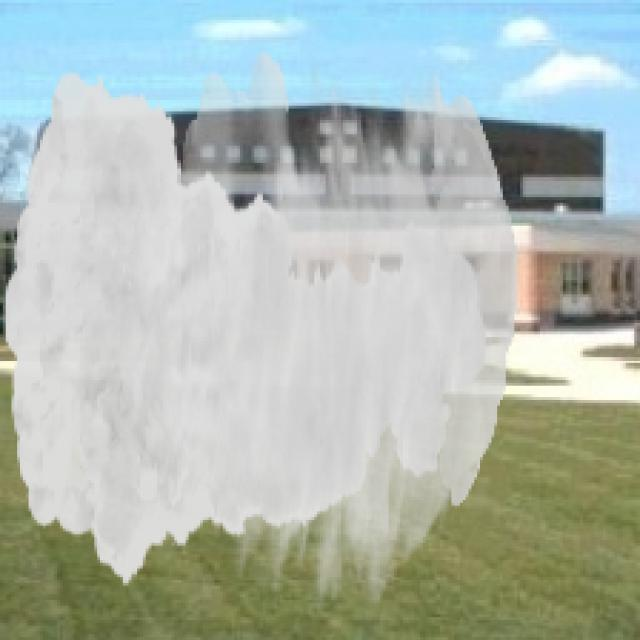smoke: (3, 51, 517, 608)
